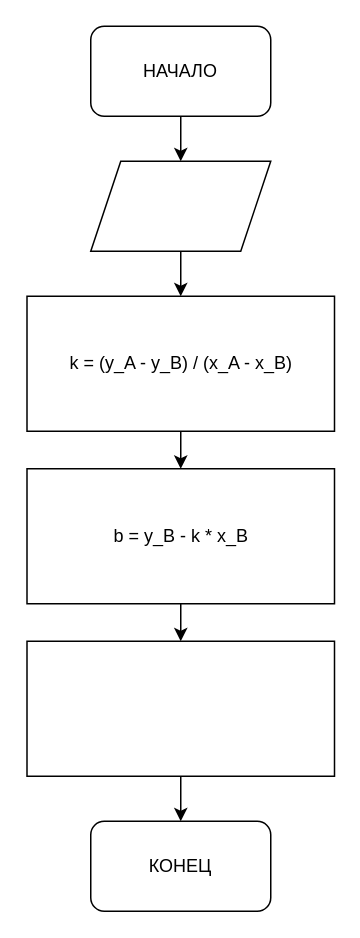
The diagram is 360 pixels wide and 938 high, and some of its shapes have lost their labels. Each missing label, with the centre of its shape:
A(x; y) B(x; y): point (180, 205)
y = k * x + b: point (180, 708)
